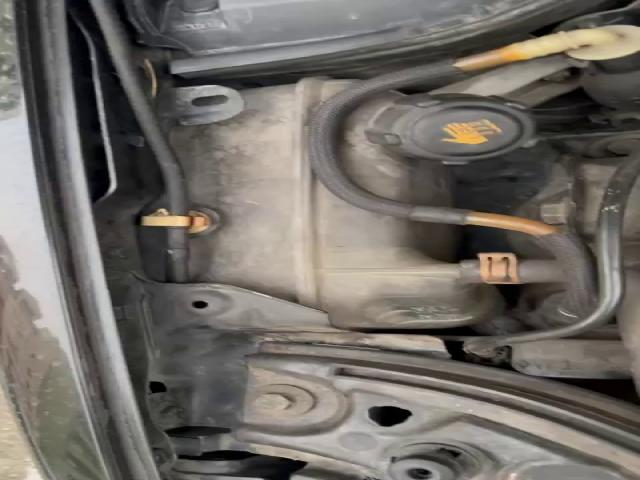antifreeze_tank: (172, 77, 492, 328), (344, 92, 534, 206)
